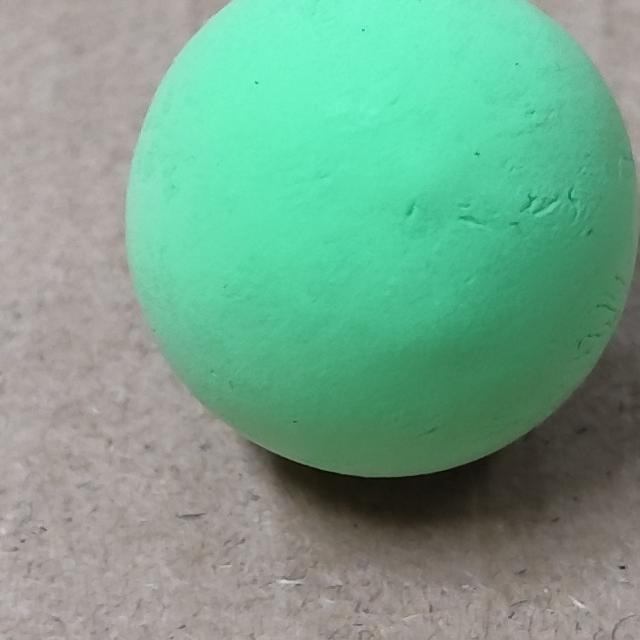bad: (129, 0, 639, 479)
